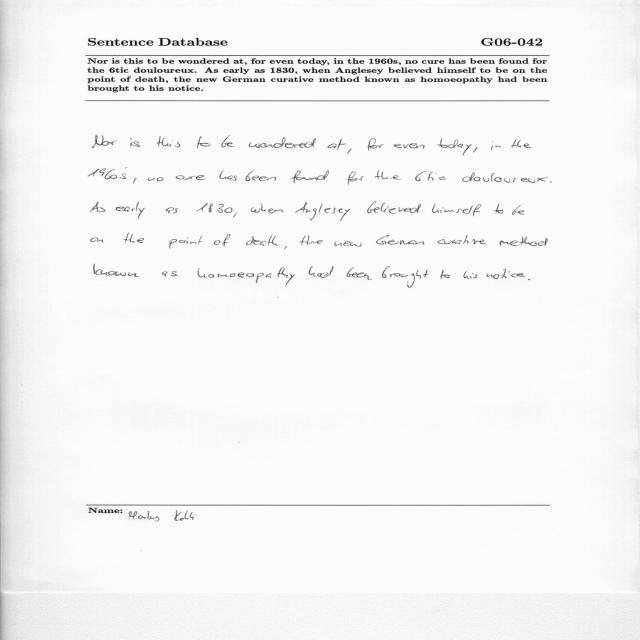word: (198, 267, 296, 286), (295, 202, 350, 221), (382, 266, 429, 288), (462, 172, 548, 183), (249, 137, 316, 148), (367, 201, 421, 214), (94, 264, 140, 277), (437, 139, 472, 156), (432, 204, 481, 216), (291, 170, 329, 183), (116, 202, 145, 219), (438, 235, 487, 245), (376, 235, 424, 245), (500, 237, 548, 247), (169, 236, 203, 249), (88, 168, 127, 179), (486, 269, 525, 279), (246, 235, 279, 246), (197, 203, 233, 213), (346, 267, 372, 280), (246, 170, 276, 181), (251, 204, 284, 214), (92, 136, 117, 149), (415, 171, 446, 181), (309, 266, 334, 278), (375, 170, 401, 180), (158, 137, 181, 148), (300, 235, 323, 246), (347, 171, 364, 185), (368, 138, 385, 151), (214, 234, 231, 247), (328, 139, 347, 150), (124, 233, 144, 243), (219, 170, 237, 181), (394, 143, 425, 149), (512, 139, 532, 148), (335, 241, 362, 247), (197, 136, 210, 148), (222, 136, 235, 148), (176, 175, 206, 180), (92, 202, 106, 212), (512, 205, 525, 215), (464, 271, 478, 279), (130, 137, 140, 147), (440, 270, 451, 279), (491, 141, 501, 150), (494, 204, 503, 214), (162, 271, 177, 277), (166, 208, 178, 214), (91, 237, 103, 243), (148, 177, 163, 181), (347, 149, 352, 155), (474, 147, 478, 153), (133, 178, 137, 184), (234, 213, 238, 218), (284, 246, 287, 250), (550, 181, 552, 183), (528, 279, 530, 280)
